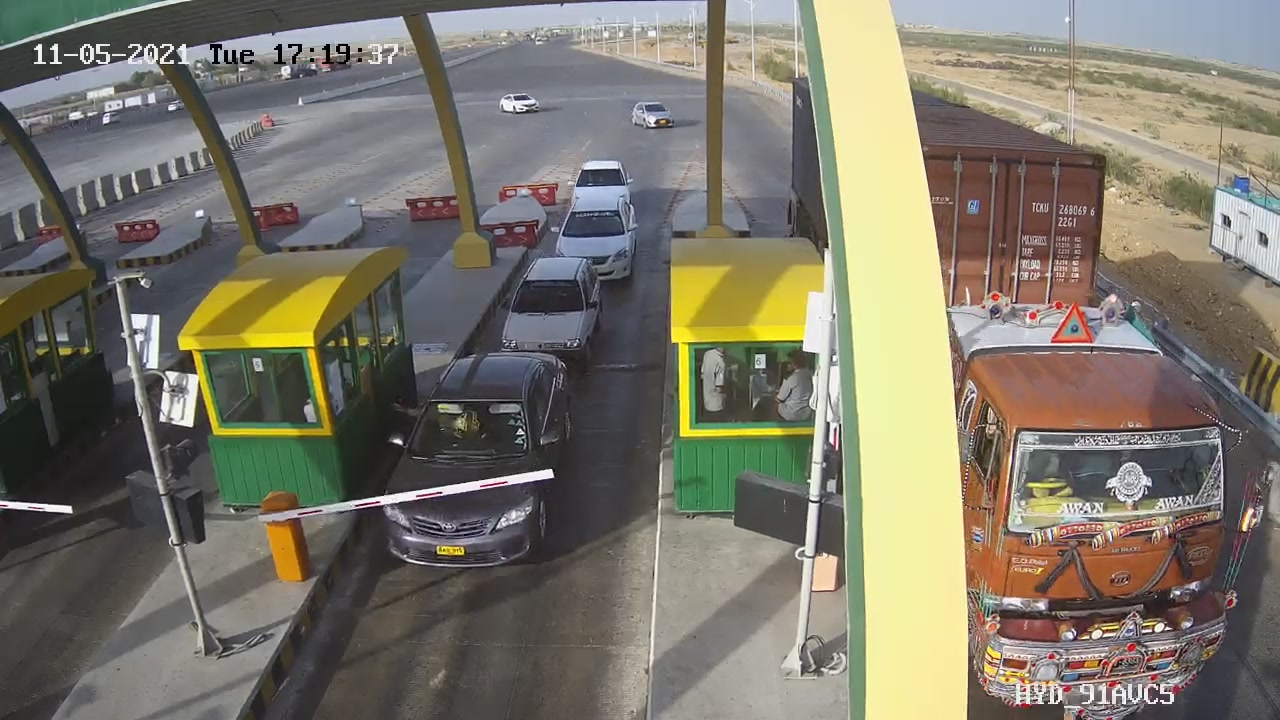F1: (368, 340, 595, 582), (481, 249, 622, 386)
